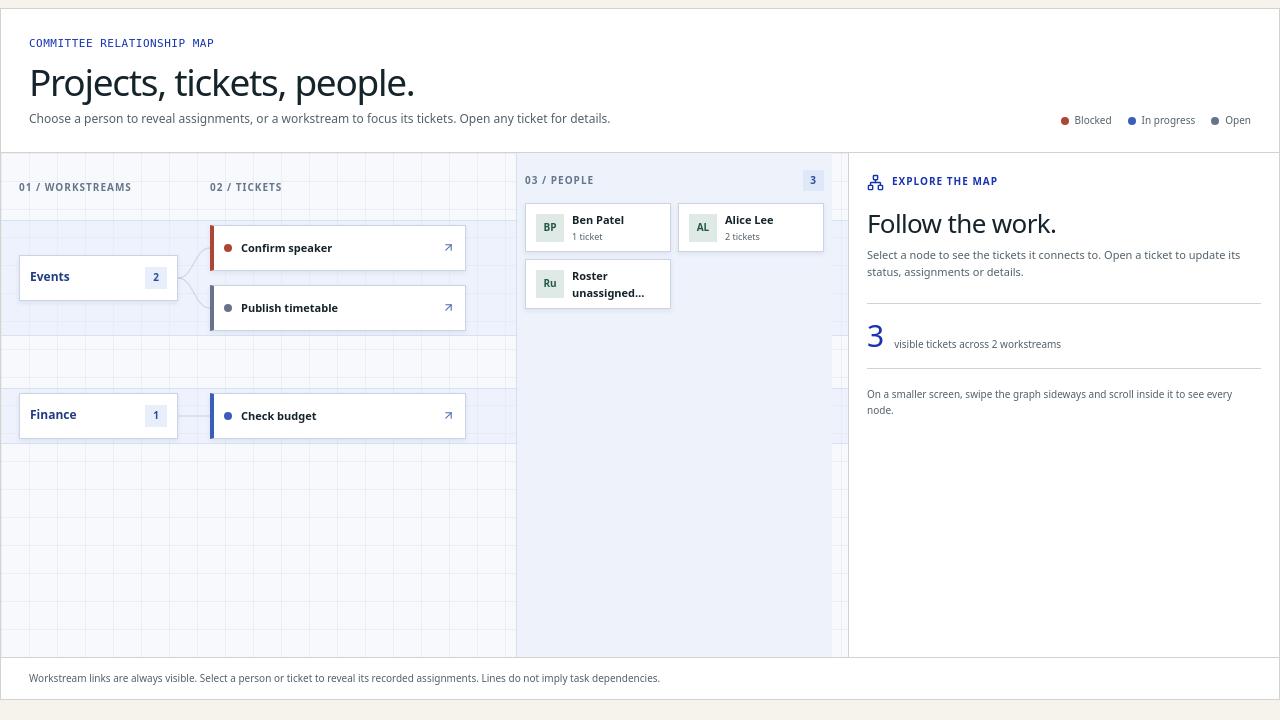
Test: ticket relationship graph › lets committee members focus a workstream or person and open a ticket
Check: the text "3" next to "visible tickets across" is shown, box [867,315,884,356]
Click the button with aria-label "Focus workstream Events, 2 tickets".
click(98, 278)  # box [19,255,178,301]
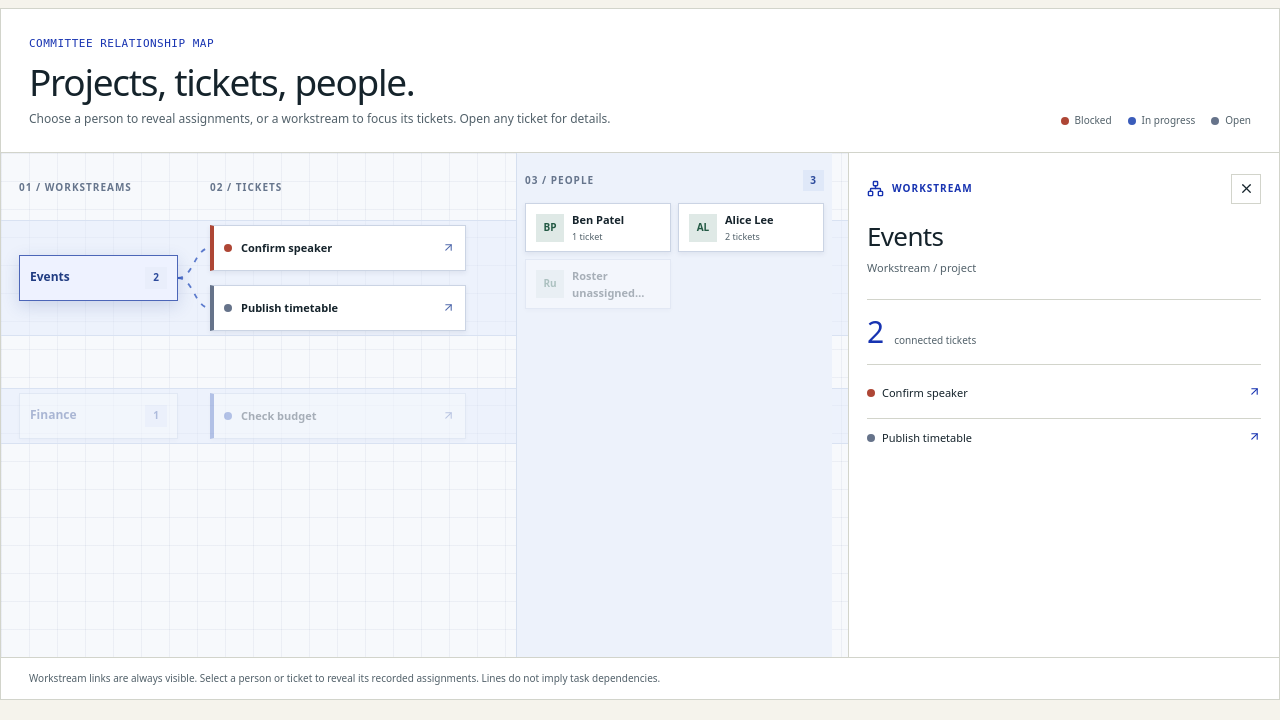
Check: the heading "Events" is shown, box [867,218,943,254]
Click the button with aria-label "Focus Alice Lee, 2 tickets".
click(751, 228)  # box [678,203,824,252]
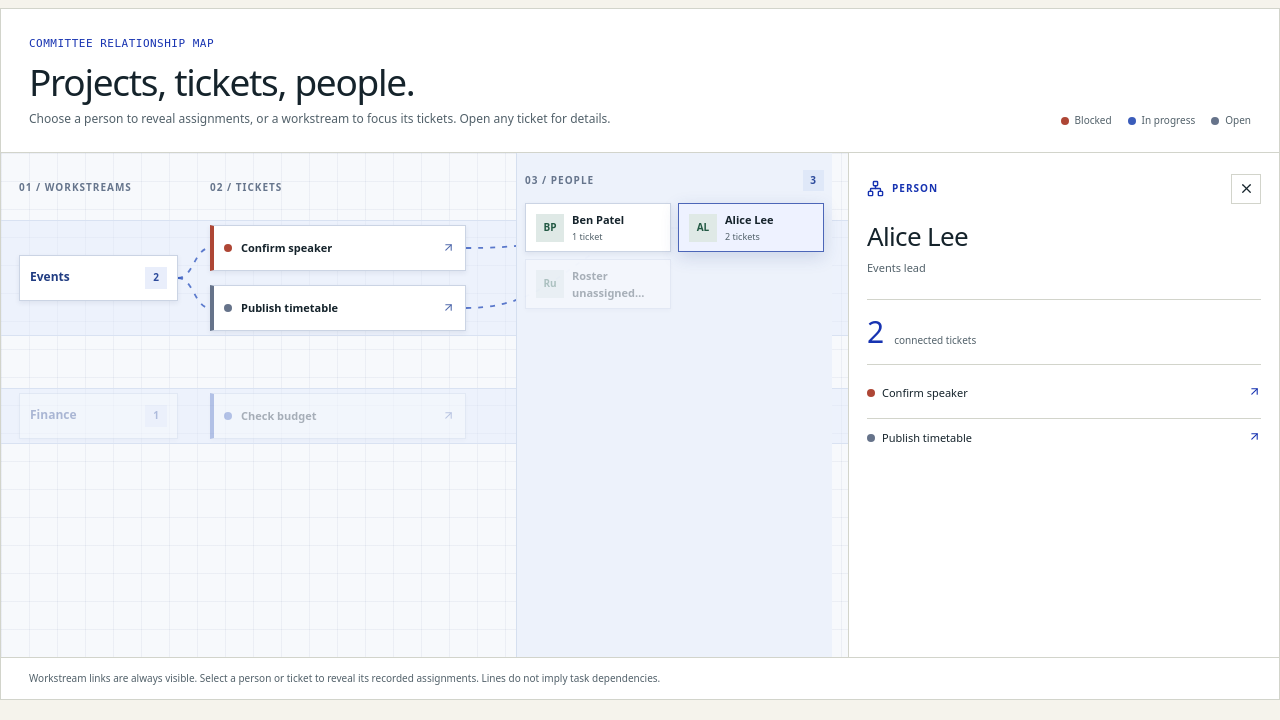
Check: the heading "Alice Lee" is shown, box [867,218,968,254]
Check: the text "Events lead" is shown, box [867,260,926,275]
Click the button named "Clear graph selection".
click(1246, 189)  # box [1231,174,1261,204]
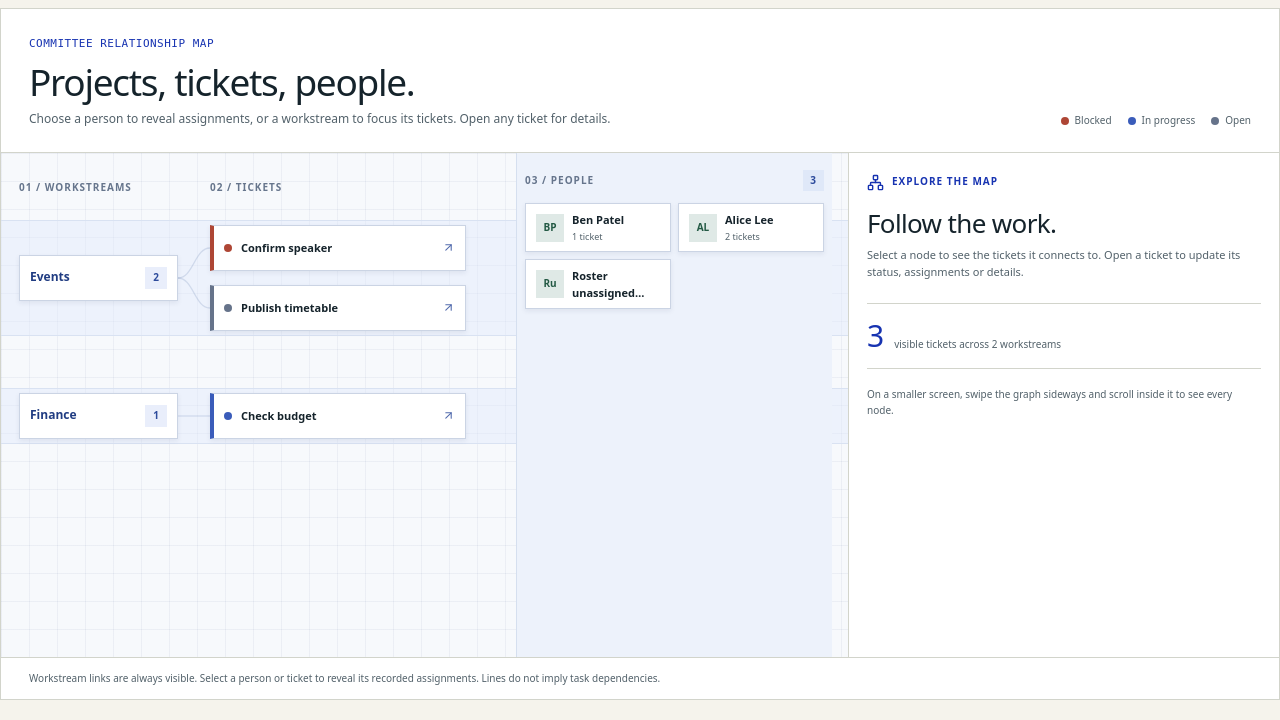
Check: the heading "Follow the work." is shown, box [867,205,1056,241]
